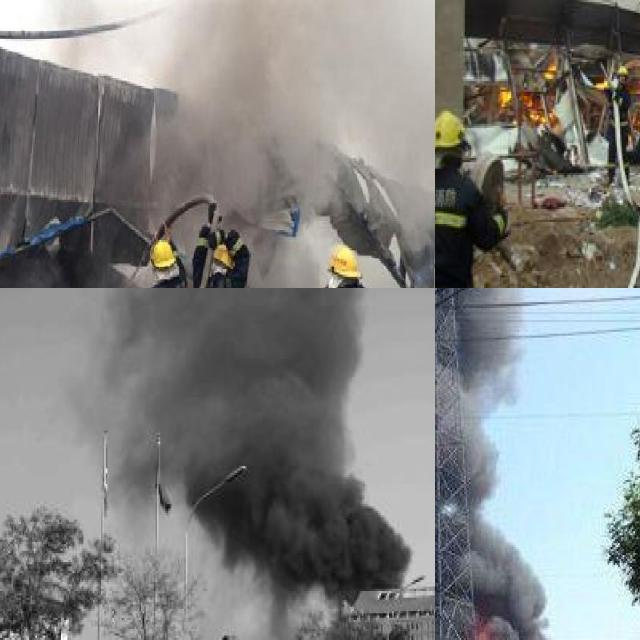fire: (519, 57, 558, 121), (542, 56, 558, 79), (498, 83, 509, 105), (637, 77, 640, 96)
smoke: (66, 288, 411, 595), (435, 288, 600, 640), (164, 0, 435, 185), (249, 222, 331, 288)
